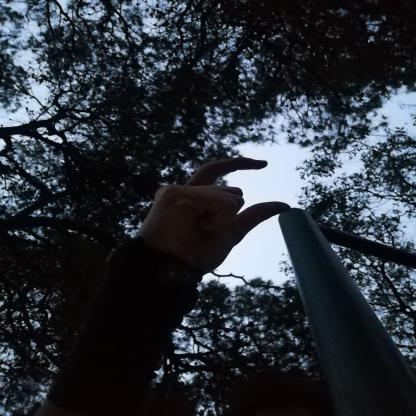DELL: (124, 152, 298, 280)
